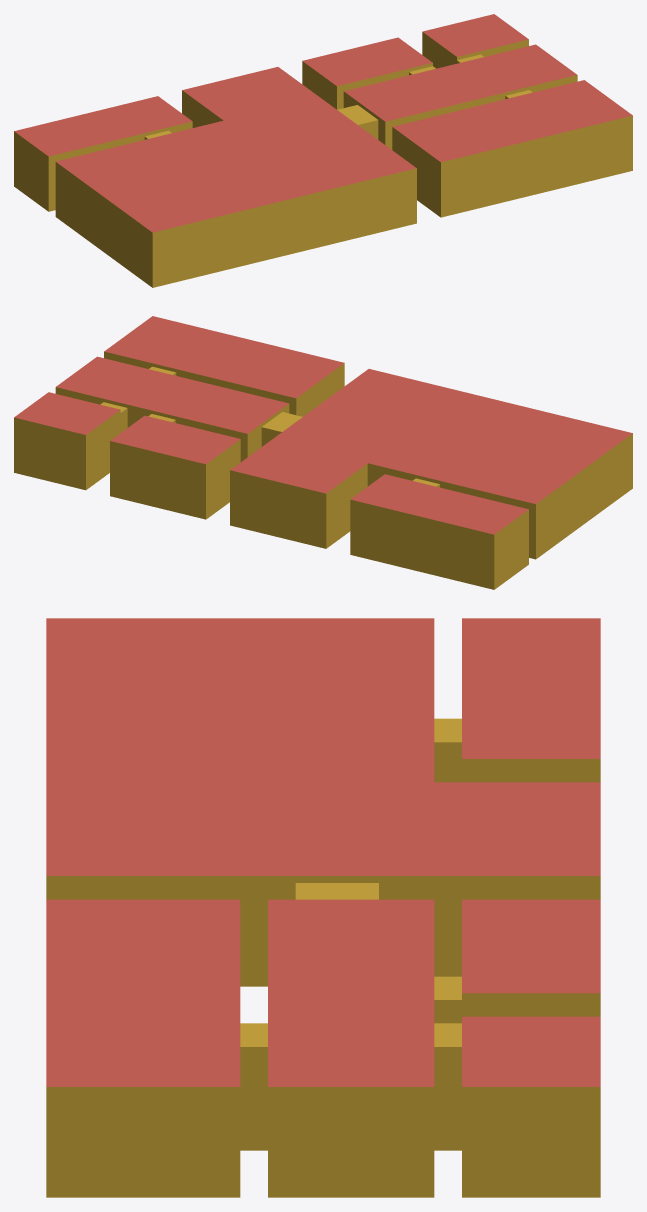
The model's file is Apartment.fbx.
The picture shows the model from 3 angles, top to bottom: view 1: azimuth 30°, elevation 25°; view 2: azimuth 150°, elevation 25°; view 3: azimuth 270°, elevation 25°; orthographic projection. The views are drawn at different scales.
Parts seen in each view (by area): view 1: Apartment; view 2: Apartment; view 3: Apartment.
Boxes of the visible parts, box(x1,y1,x2,y2) form: Apartment: box(14, 14, 632, 287); Apartment: box(14, 316, 632, 589); Apartment: box(46, 618, 600, 1197).
Bounding box in the file's own units: 3636 × 400 × 1818.
